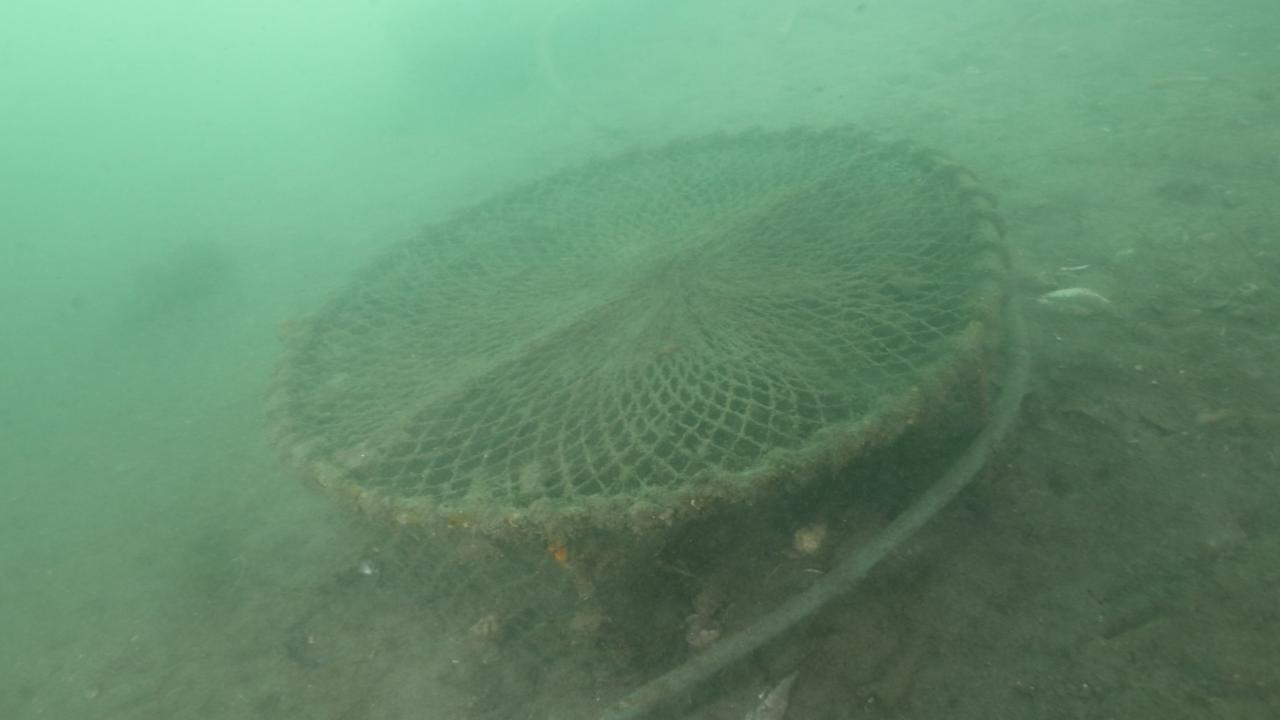circular fish trap: (259, 125, 1012, 653)
